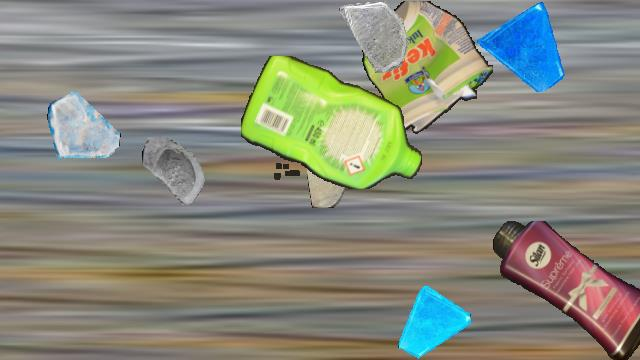glass: (477, 1, 567, 91), (141, 137, 217, 213), (47, 88, 121, 162), (396, 285, 470, 359), (339, 1, 411, 73)
plastic: (241, 56, 423, 188), (492, 221, 640, 359), (361, 1, 493, 139)
wood: (307, 134, 345, 208)
